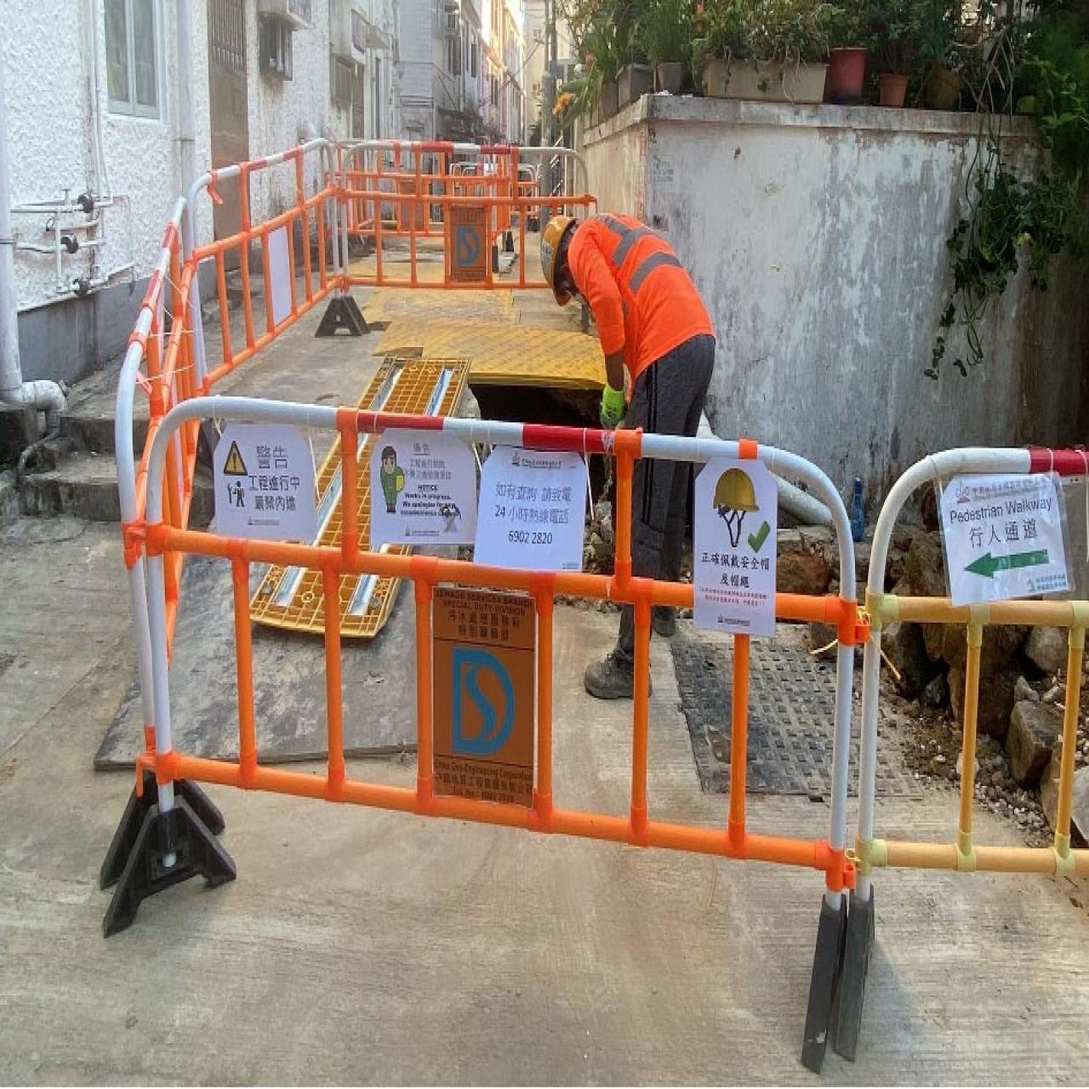NO_Safety_Vest: (580, 205, 705, 364)
Person: (540, 195, 719, 706)
